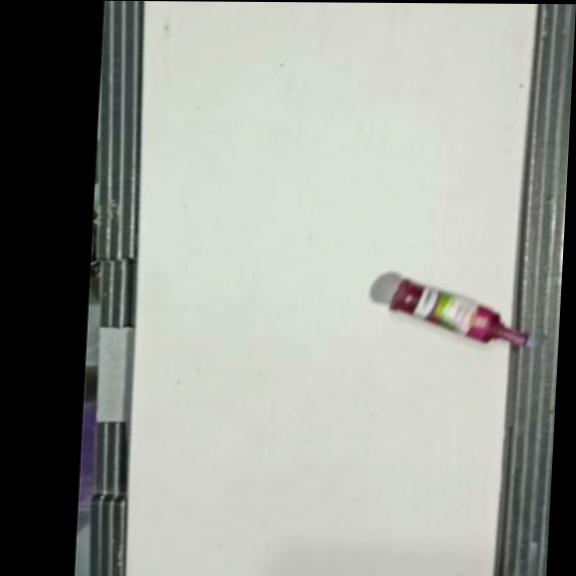Plastik: (385, 278, 532, 347)
